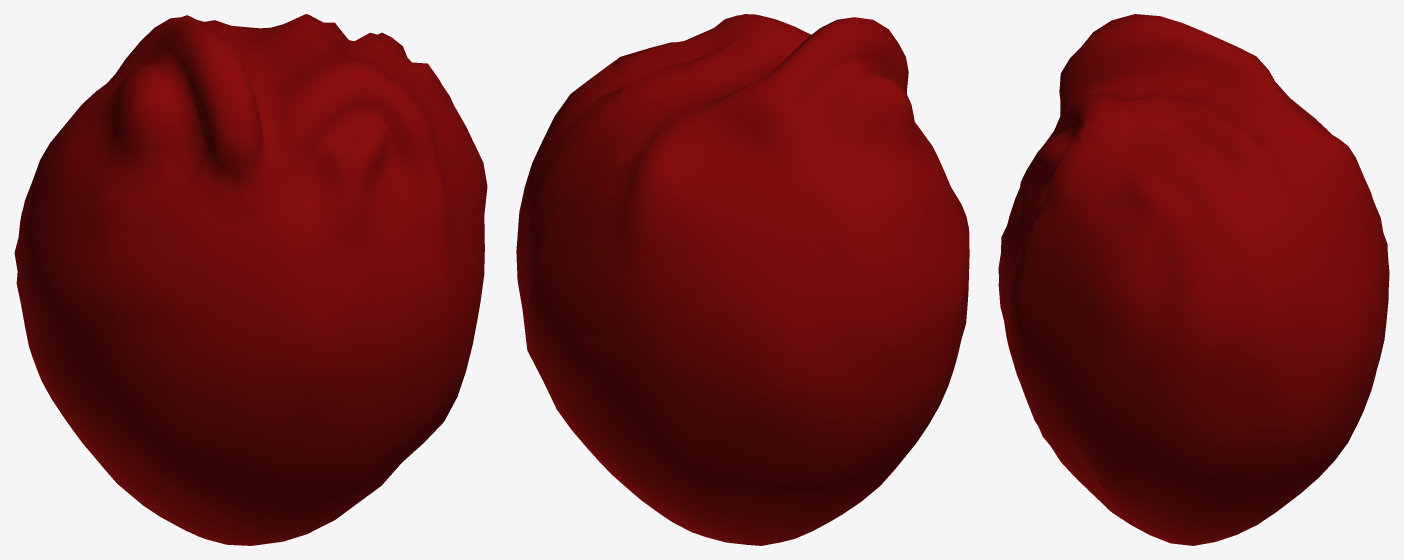
Rendered from HeartRedoneFBX.fbx.
3 views of the same model, side by side, from view 1: azimuth 30°, elevation 25°; view 2: azimuth 150°, elevation 25°; view 3: azimuth 270°, elevation 25° (orthographic). The views are drawn at different scales.
Visible parts, largest first — view 1: NewMesh; view 2: NewMesh; view 3: NewMesh.
Boxes of the visible parts, bbox=[...] form: NewMesh: bbox=[14, 14, 487, 545]; NewMesh: bbox=[516, 14, 969, 545]; NewMesh: bbox=[998, 14, 1389, 545].
Bounding box in the file's own units: 1.97 × 2.36 × 1.73.
